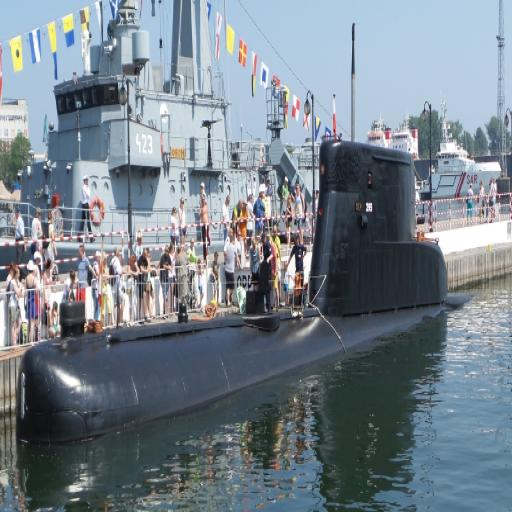submarine: (16, 144, 458, 442)
